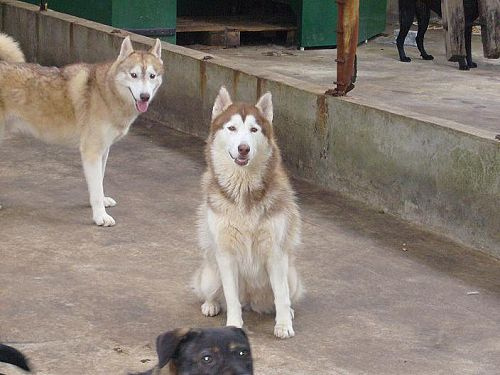dog: (0, 31, 164, 229), (191, 86, 301, 336)
